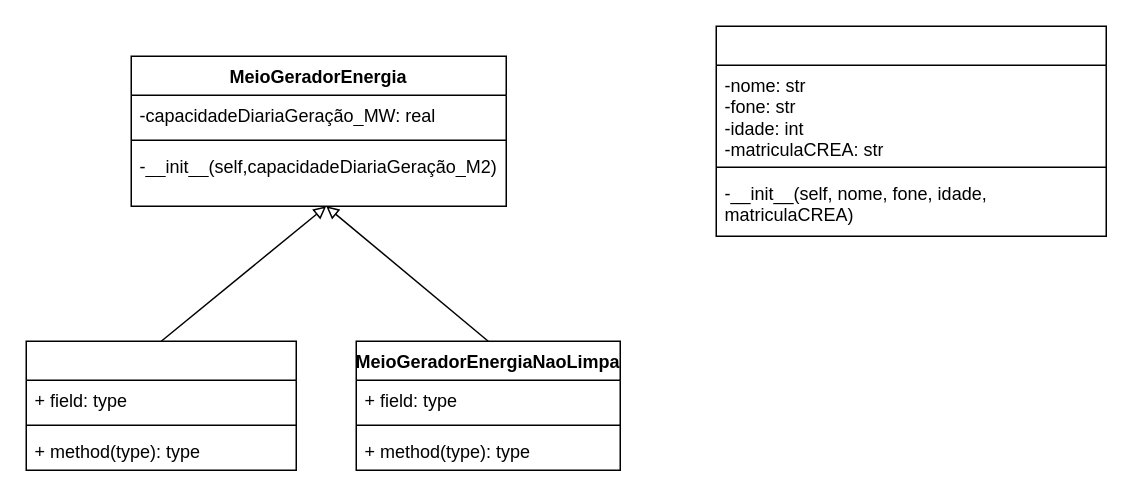
The diagram is 1133 pixels wide and 501 high, and some of its shapes have lost their labels. The shapes that lost their labels are listed below. From the top down, each one's box as (x1, y1, x2, y2) in pixels, then its label:
(715, 25, 1106, 236): Engenheiro
(25, 340, 296, 470): MeioGeradorEnergiaLimpa
